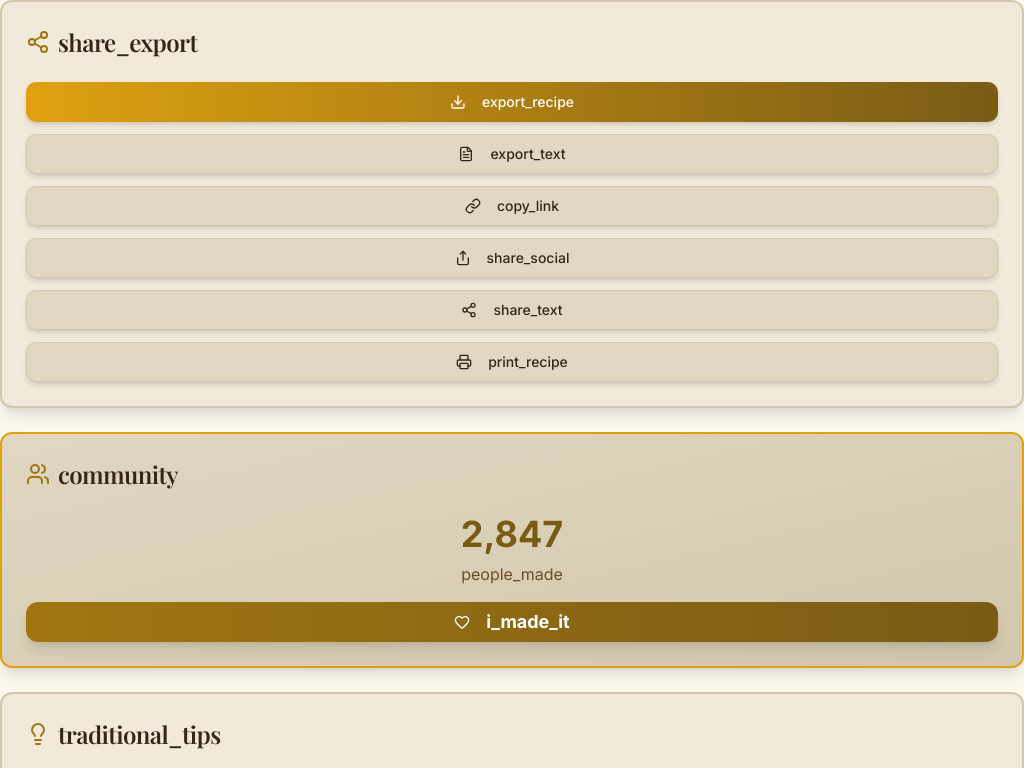
Test case: ActionsPanel › marking as made increments the counter and disables the button
Click the button with test id "made-it-button" at (512, 622), box [26,602,998,642]
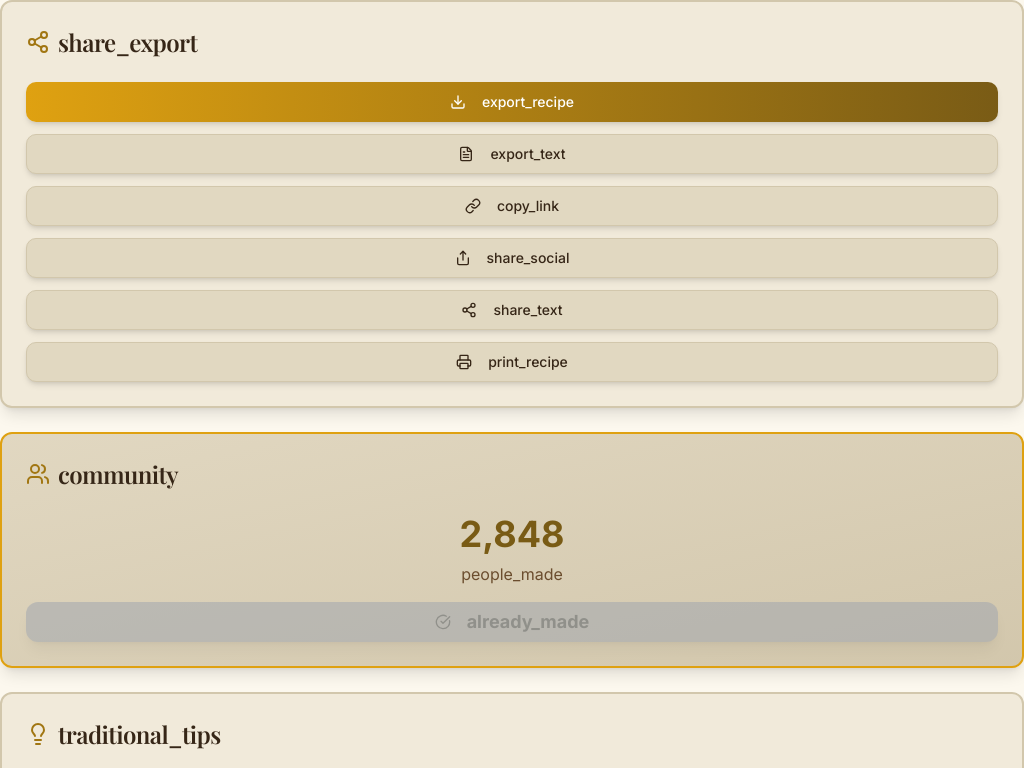
Expected: the text with test id "made-counter" reads "2,848", [460,512,564,556]
Expected: the button with test id "made-it-button" is disabled, [26,602,998,642]
